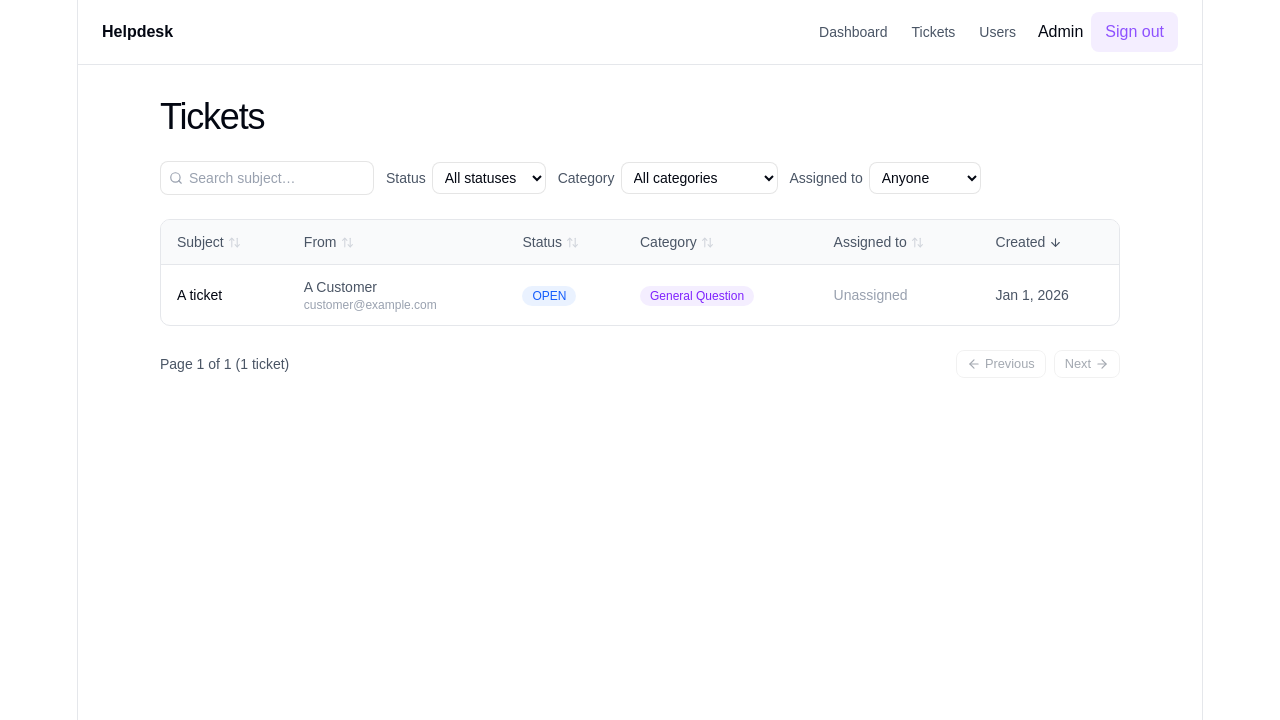
it: TicketsPage › filters on the server: changing the status filter re-requests with that status and resets to page 1
The image size is (1280, 720).
Expected: the link "A ticket" is shown, [177, 287, 222, 303]
Select "RESOLVED" in the dropdown labelled "Status" at point(489, 178), box [432, 162, 546, 194]
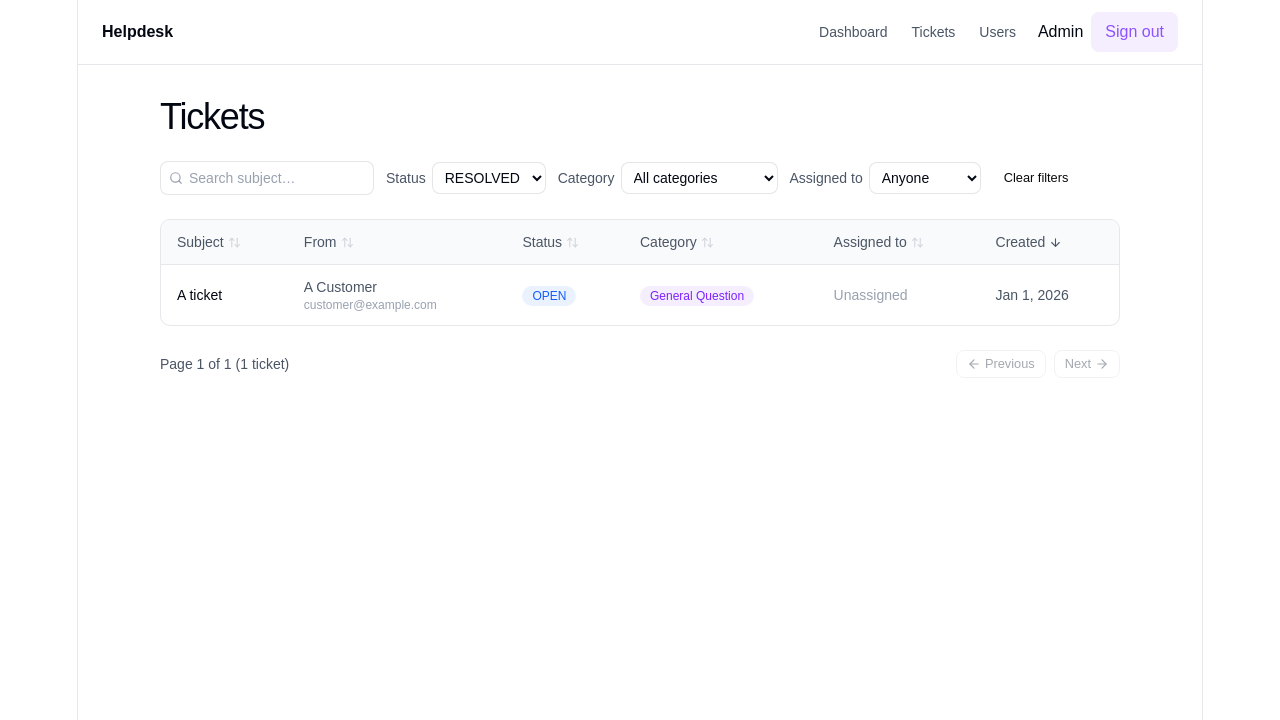
Result: the button "Clear filters" is shown at [993, 164, 1079, 192]
